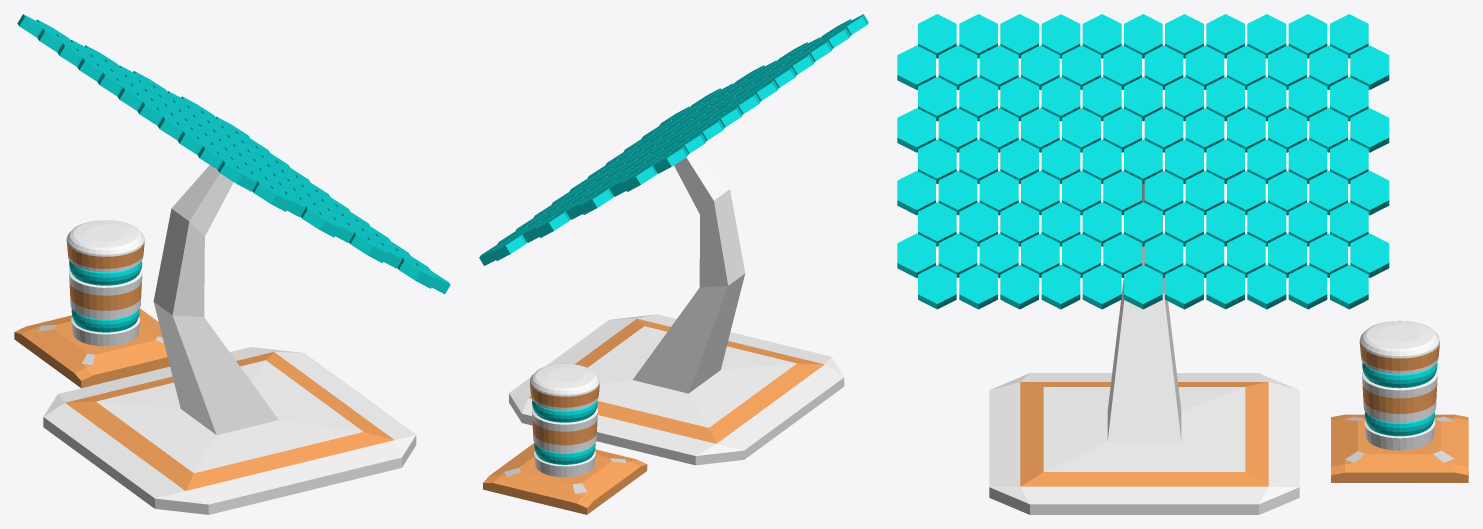
Rendered from panneux solaire.fbx.
The picture shows the model from 3 angles, left to right: view 1: azimuth 30°, elevation 25°; view 2: azimuth 150°, elevation 25°; view 3: azimuth 270°, elevation 25°; orthographic projection. The views are drawn at different scales.
Visible parts, largest first — view 1: Cube, Cylinder.038, Cylinder, Cube.001; view 2: Cube, Cylinder.038, Cylinder, Cube.001; view 3: Cylinder.038, Cube, Cylinder, Cube.001.
Boxes of the visible parts, <box> form: Cube: <box>43,165,416,514</box>; Cylinder.038: <box>17,14,450,294</box>; Cylinder: <box>66,220,144,346</box>; Cube.001: <box>14,308,169,388</box>; Cube: <box>509,150,844,465</box>; Cylinder.038: <box>479,14,868,265</box>; Cylinder: <box>530,363,599,477</box>; Cube.001: <box>483,443,647,514</box>; Cylinder.038: <box>897,14,1389,309</box>; Cube: <box>989,183,1299,514</box>; Cylinder: <box>1359,320,1439,450</box>; Cube.001: <box>1331,414,1468,482</box>.
Bounding box in the file's own units: 1306 × 1796 × 2402.
